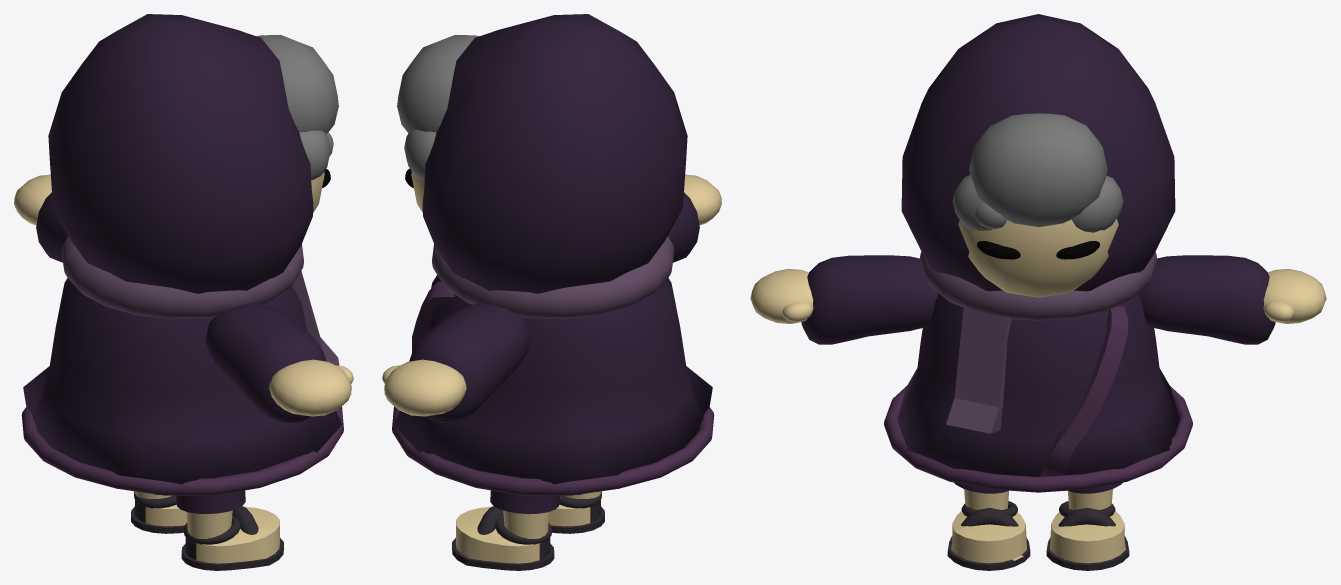
Rendered from OLD WOMAN purple.fbx.
The picture shows the model from 3 angles, left to right: view 1: azimuth 30°, elevation 25°; view 2: azimuth 150°, elevation 25°; view 3: azimuth 270°, elevation 25°; orthographic projection. The views are drawn at different scales.
Visible parts, largest first — view 1: polySurface73; view 2: polySurface73; view 3: polySurface73.
Part boxes in pixels (<box>): polySurface73: <box>14,14,353,570</box>; polySurface73: <box>382,14,721,570</box>; polySurface73: <box>750,14,1326,570</box>.
Bounding box in the file's own units: 0.0247 × 0.0433 × 0.0443.
